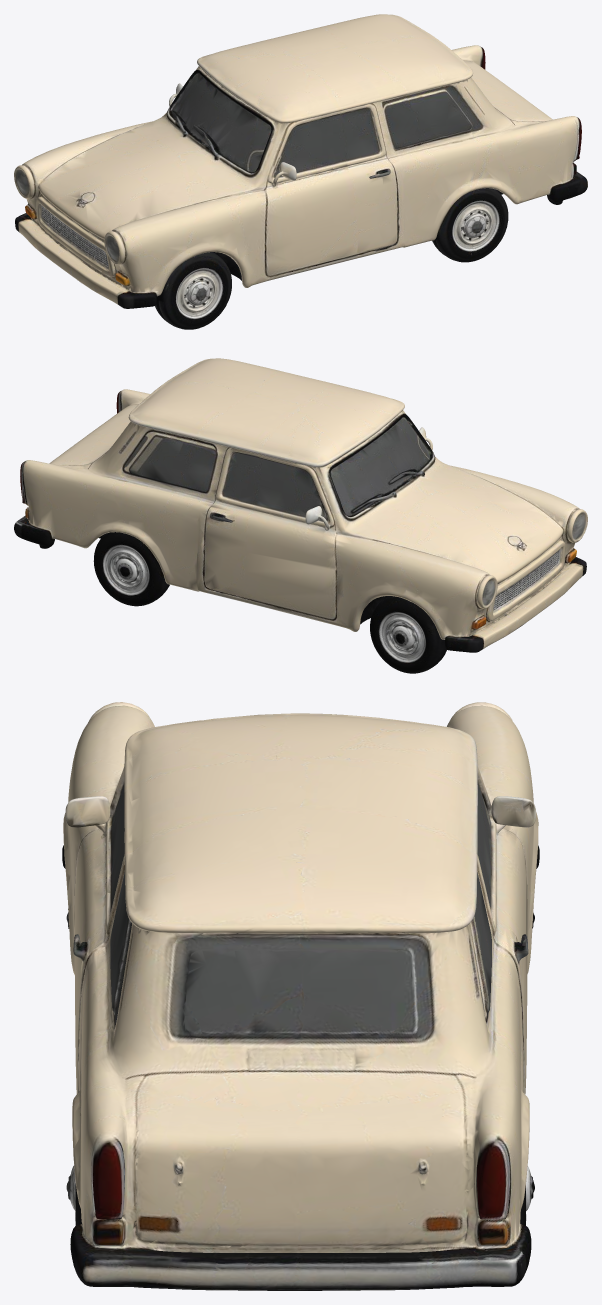
File: trabant.glb
3 renders of one model, top to bottom at view 1: azimuth 30°, elevation 25°; view 2: azimuth 150°, elevation 25°; view 3: azimuth 270°, elevation 25°, orthographic. The views are drawn at different scales.
Parts seen in each view (by area): view 1: object 1, wheel_3, wheel_1; view 2: object 1, wheel_2, wheel_0; view 3: object 1.
Part boxes in pixels (x1,y1,x2,y2): object 1: (14, 14, 587, 329); wheel_3: (163, 255, 231, 329); wheel_1: (444, 192, 506, 260); object 1: (14, 358, 587, 673); wheel_2: (370, 599, 438, 673); wheel_0: (95, 535, 157, 604); object 1: (62, 702, 539, 1290).
Size of the model in its own units: 1.9 by 0.7395 by 0.8273.
Materials: 1 (1 with a texture image).
